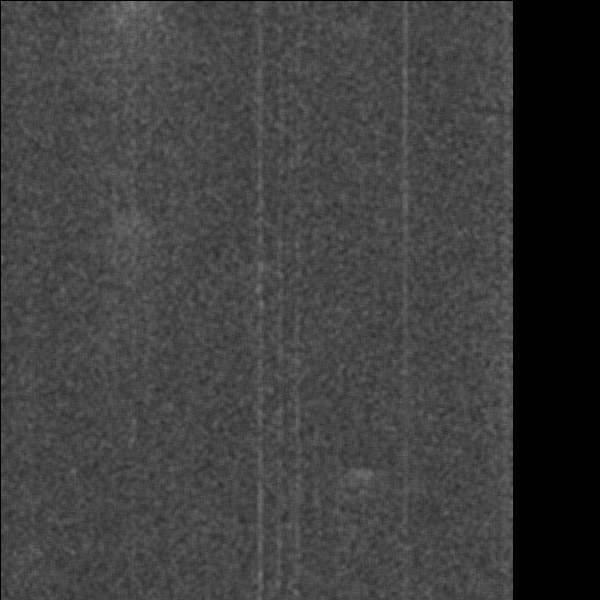spark: (403, 311, 492, 530), (426, 142, 473, 232), (457, 233, 501, 302), (479, 406, 510, 490), (206, 216, 240, 262), (31, 375, 57, 410), (458, 502, 481, 533)
